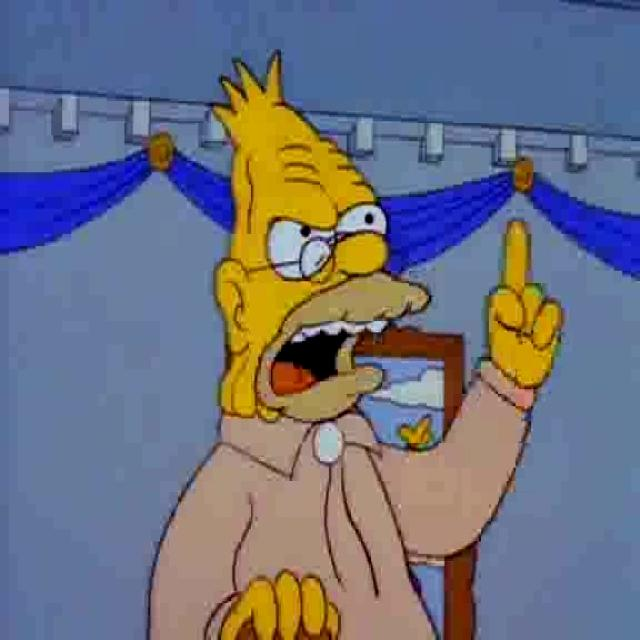Abraham Grampa Simpson: (207, 46, 435, 432)
